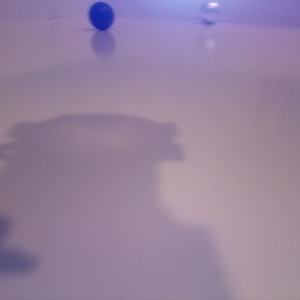alive_ball: (199, 1, 222, 25)
dead_ball: (87, 1, 115, 31)
